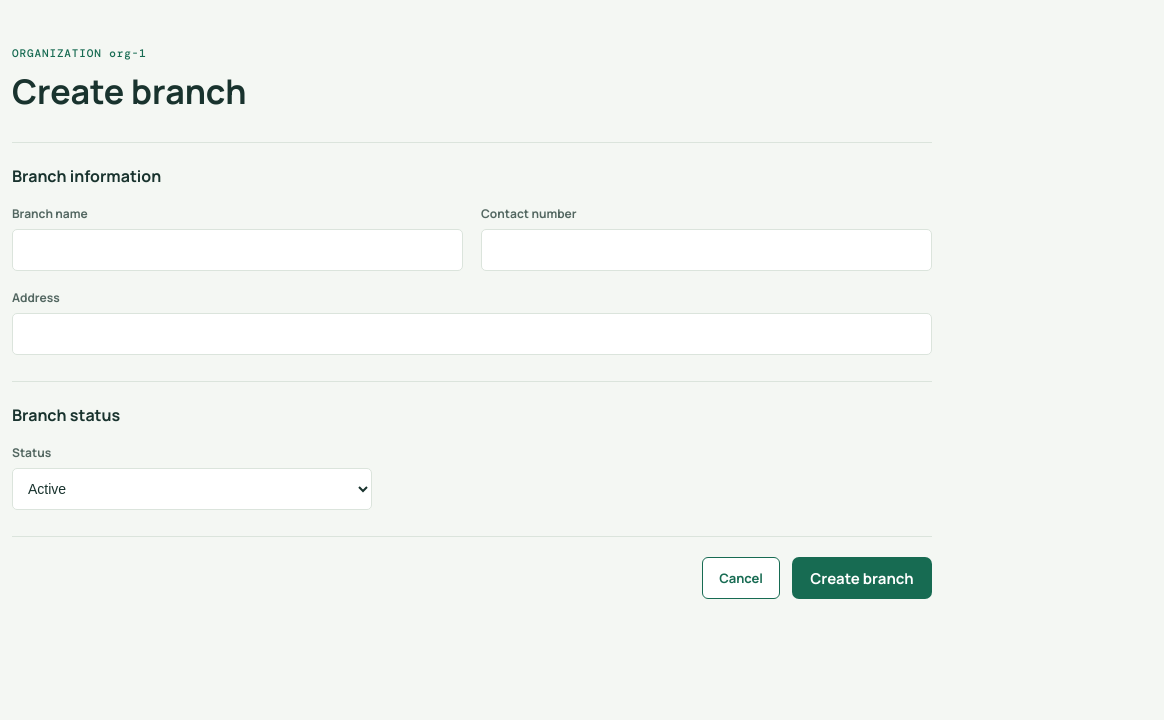
Branch Management pages › creates a branch using only the model fields and the authenticated organization scope
This screenshot has width=1164, height=720.
Type "South Branch" into the field labelled "Branch name" at (238, 250), box top-left (12, 229), bottom-right (463, 271)
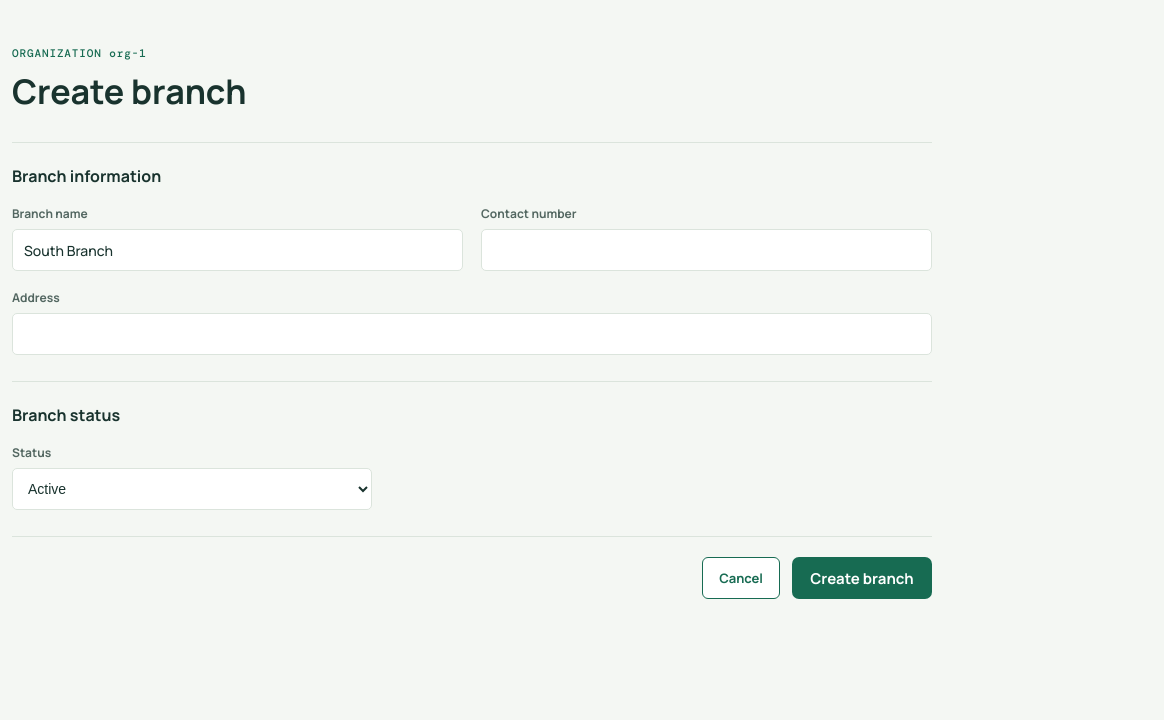
Type "24 South Road" into the field labelled "Address" at (472, 334), box top-left (12, 313), bottom-right (932, 355)
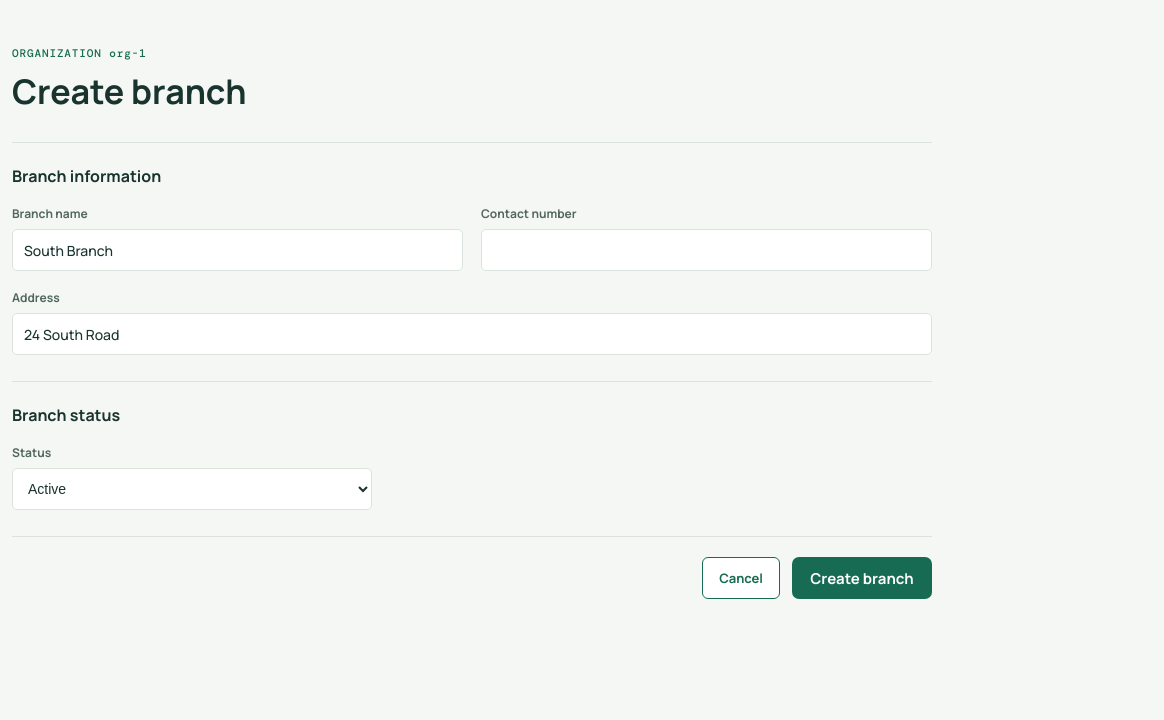
Type "555-0103" into the field labelled "Contact number" at (706, 250), box top-left (481, 229), bottom-right (932, 271)
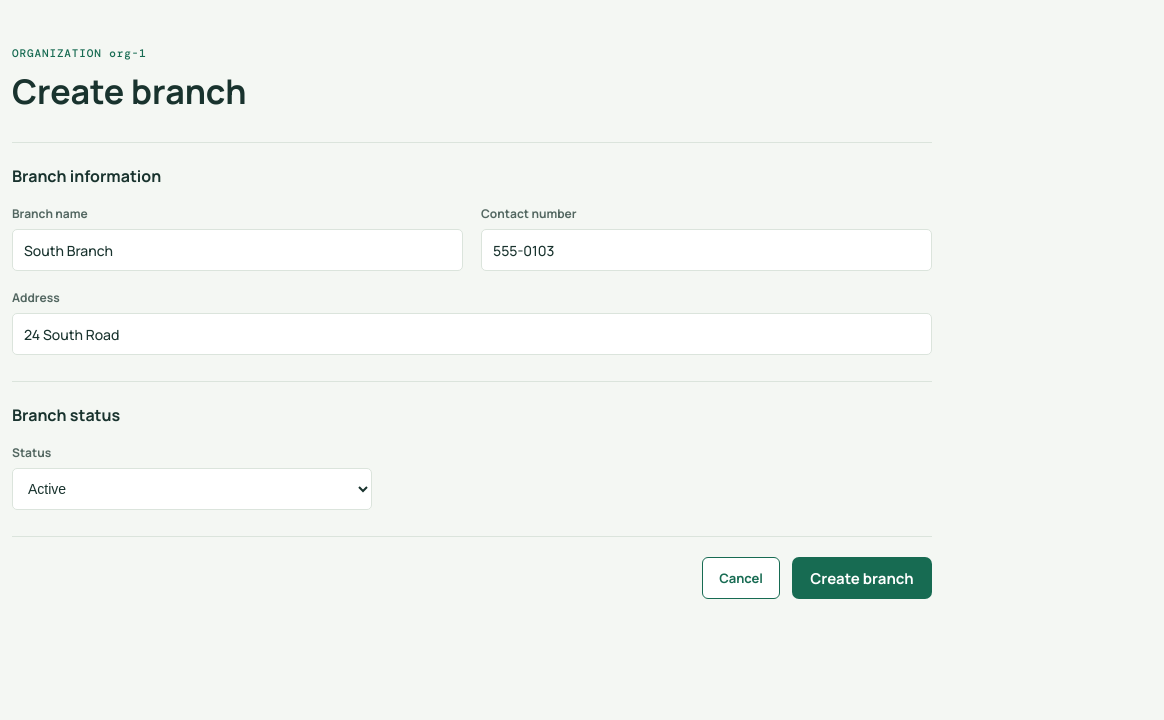
Click the button "Create branch" at (862, 578), box top-left (792, 557), bottom-right (932, 599)
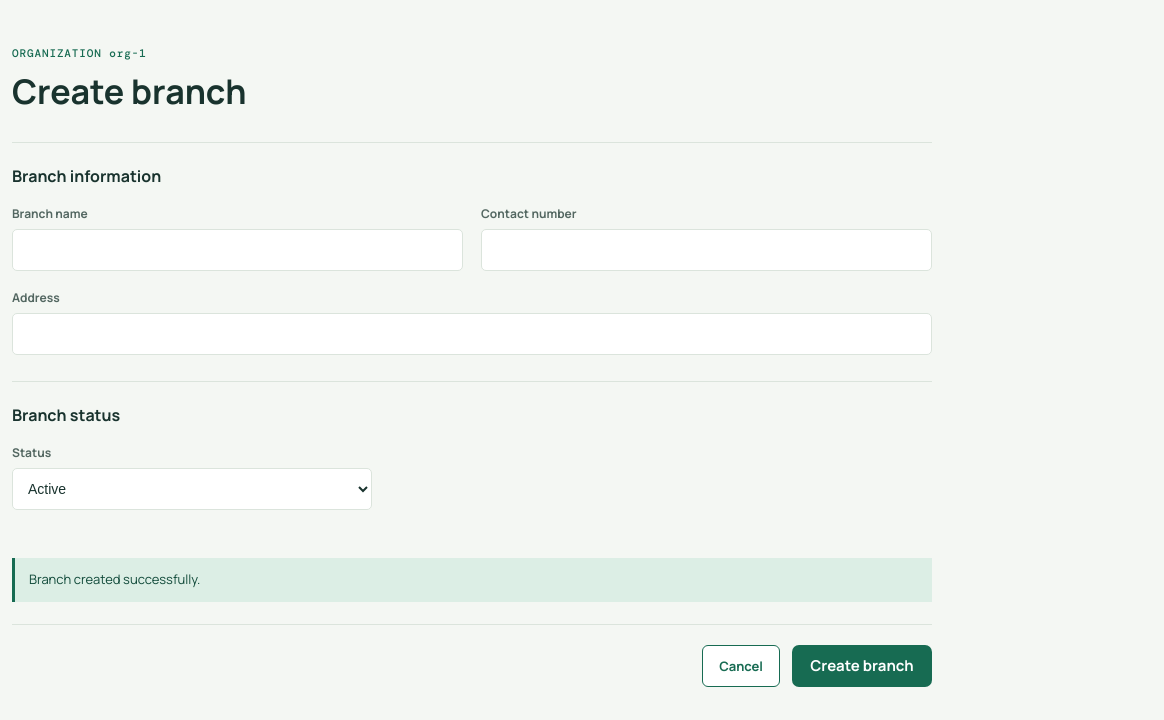
Now the message reads "Branch created successfully.", box top-left (29, 570), bottom-right (200, 588)
Now the field labelled "Branch name" is empty, box top-left (12, 229), bottom-right (463, 271)
